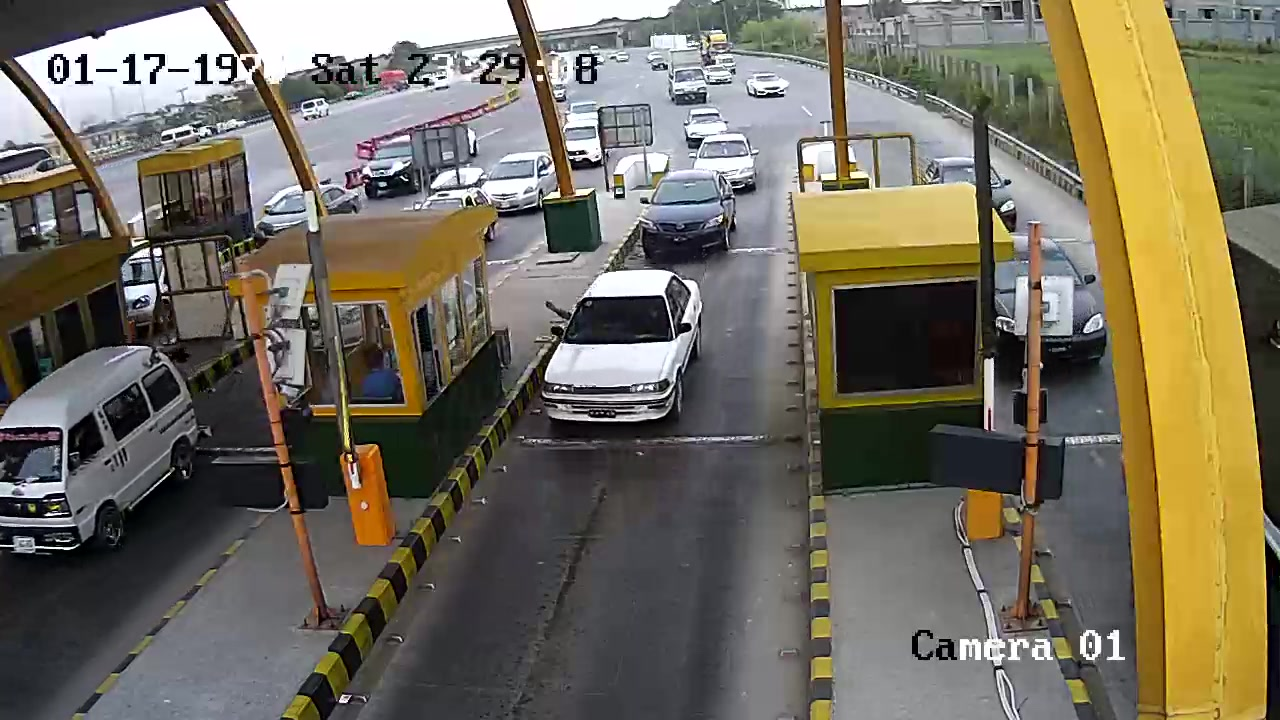F1: (529, 268, 709, 444)
